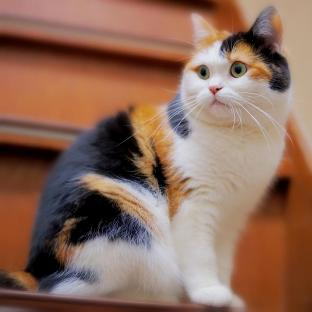Animal: (0, 7, 291, 306)
